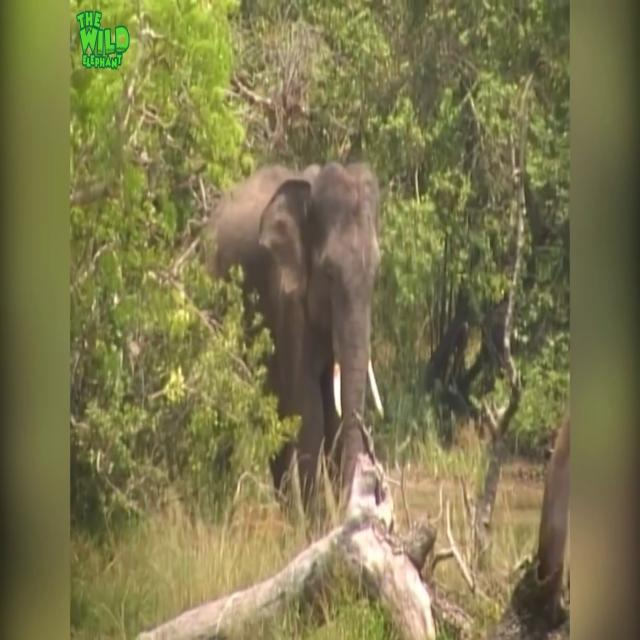Elephant: (202, 159, 385, 520)
